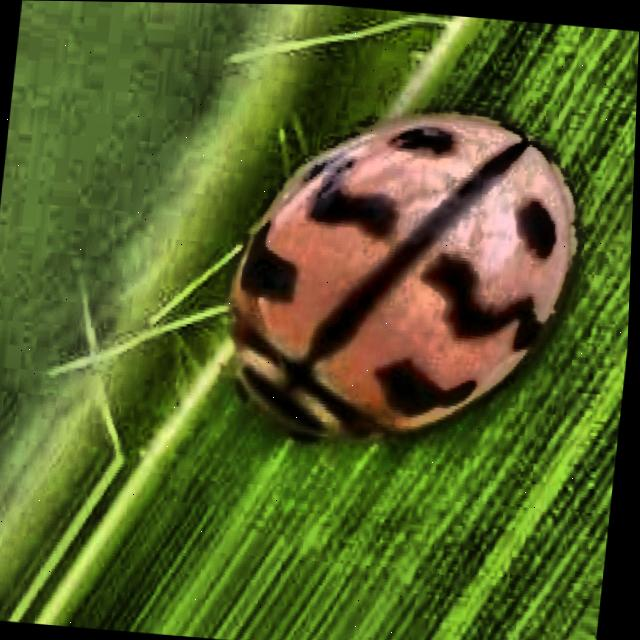Asian-Lady-beetle: (192, 50, 605, 497)
